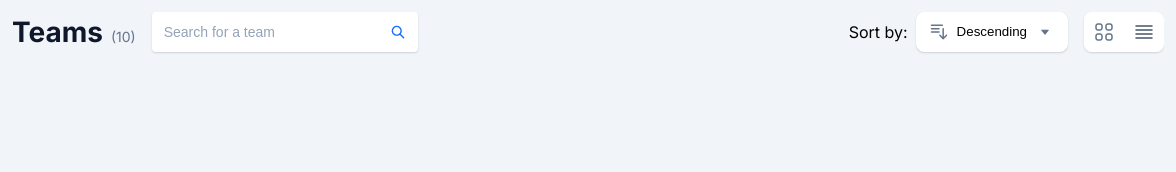
TeamsToolbar Component › clears the search input
In the field with test id "search-input": [260, 32] box [164,24,356,40], type "New Team"
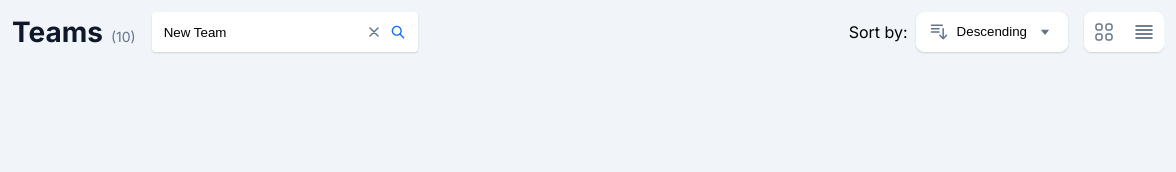
Click the button with test id "clear-search-button": [374, 32] box [366,24,382,40]
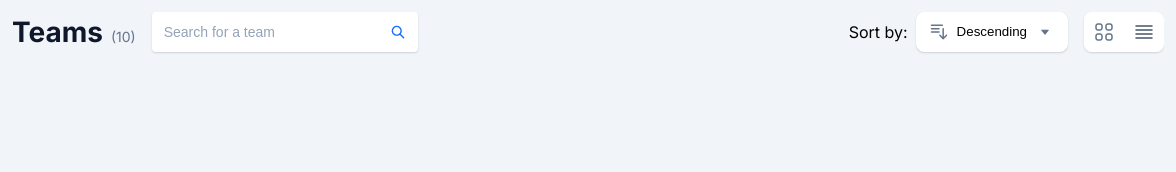
Now the field with test id "search-input" is empty, box [164,24,356,40]
